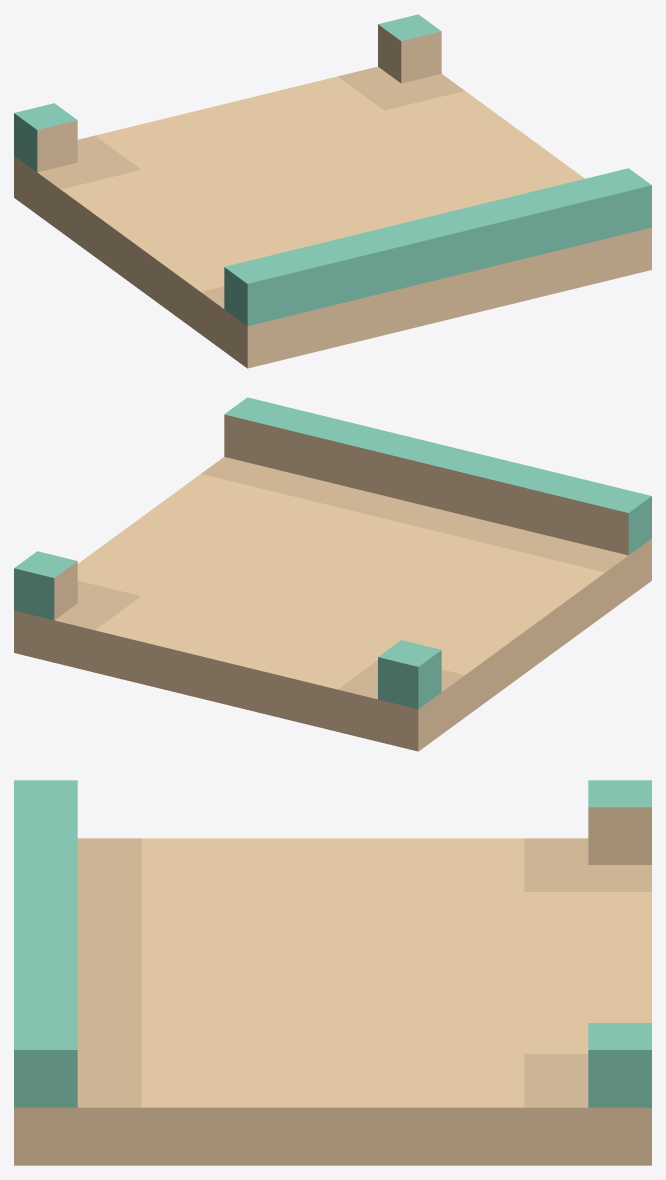
Rendered from Way_T-Cross.fbx.
The picture shows the model from 3 angles, top to bottom: view 1: azimuth 30°, elevation 25°; view 2: azimuth 150°, elevation 25°; view 3: azimuth 270°, elevation 25°; orthographic projection. The views are drawn at different scales.
Visible parts, largest first — view 1: Way_T-Cross; view 2: Way_T-Cross; view 3: Way_T-Cross.
Part boxes in pixels (<box>): Way_T-Cross: <box>14,14,651,368</box>; Way_T-Cross: <box>14,397,651,751</box>; Way_T-Cross: <box>14,780,651,1165</box>.
Bounding box in the file's own units: 1 × 0.2 × 1.
